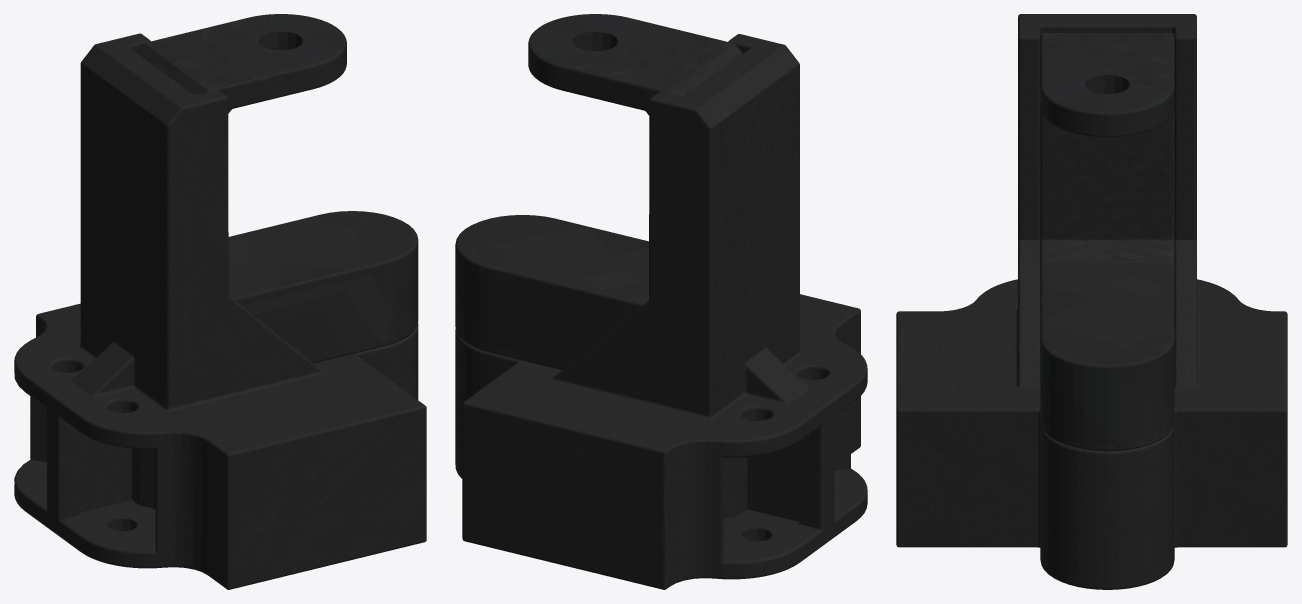
Rendered from arm_distal_link.dae.
3 views of the same model, side by side, from view 1: azimuth 30°, elevation 25°; view 2: azimuth 150°, elevation 25°; view 3: azimuth 270°, elevation 25° (orthographic).
Parts seen in each view (by area): view 1: node; view 2: node; view 3: node.
Boxes of the visible parts, x1,y1,x2,y2 form: node: [14, 14, 426, 589]; node: [455, 14, 867, 589]; node: [896, 14, 1287, 589].
Bounding box in the file's own units: 0.075 × 0.07 × 0.0874.
Materials: 1 (1 with a texture image).
